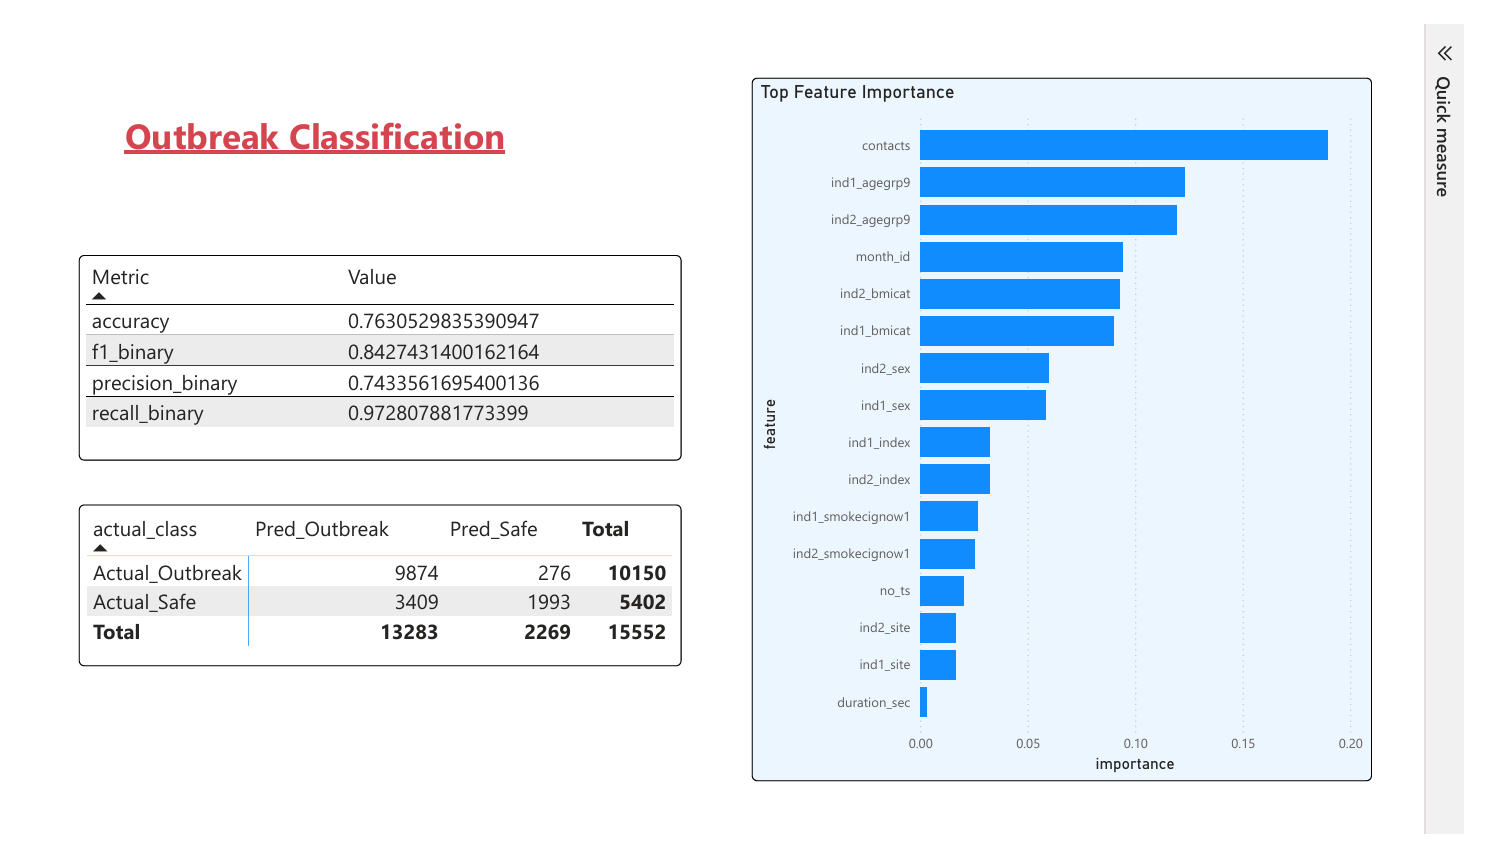

Layout of this report page (visuals, bound fields, positions):
{"tool":"powerbi","page":{"name":"Outbreak Classification","canvas":[1280,720],"ordinal":1},"visuals":[{"type":"clusteredBarChart","title":"Top Feature Importance","fields":{"Category":["classification_feature_importance.feature"],"Y":["Sum(classification_feature_importance.importance)"]},"box":[665,38,567,643],"z":0},{"type":"pivotTable","fields":{"Rows":["classification_confusion_matrix.actual_class"],"Columns":["classification_confusion_matrix.predicted_class"],"Values":["Sum(classification_confusion_matrix.count)"]},"box":[50,428,551,148],"z":1000},{"type":"tableEx","fields":{"Values":["classification_metrics.metric","classification_metrics.value"]},"box":[50,200,551,188],"z":2000},{"type":"textbox","box":[80,63,372,58],"z":3000}]}

Visuals, with their boxes on the page's 1280x720 design canvas (x1, y1, x2, y2). These are canvas units, not pixel positions in the 1489x849 screenshot, which may show the page scaled, cropped or inside an application window:
"Top Feature Importance" clusteredBarChart: x1=665 y1=38 x2=1232 y2=681
pivotTable - classification_confusion_matrix.actual_class x classification_confusion_matrix.predicted_class: x1=50 y1=428 x2=601 y2=576
tableEx - classification_metrics.metric x classification_metrics.value: x1=50 y1=200 x2=601 y2=388
textbox: x1=80 y1=63 x2=452 y2=121
